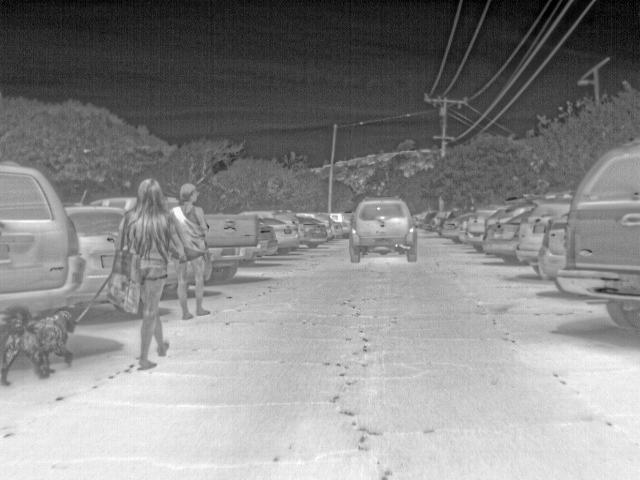car: (569, 137, 640, 334), (2, 162, 85, 304), (349, 196, 417, 263), (208, 211, 259, 285), (87, 205, 123, 268), (538, 212, 566, 286), (518, 197, 548, 266), (486, 202, 516, 266), (465, 209, 497, 253), (297, 216, 327, 248), (257, 218, 277, 264), (441, 211, 469, 243), (278, 217, 298, 255), (429, 211, 451, 233), (339, 213, 352, 239), (327, 215, 340, 240), (415, 211, 431, 229)
dog: (1, 306, 81, 384)
person: (116, 176, 182, 370), (173, 180, 208, 321)
